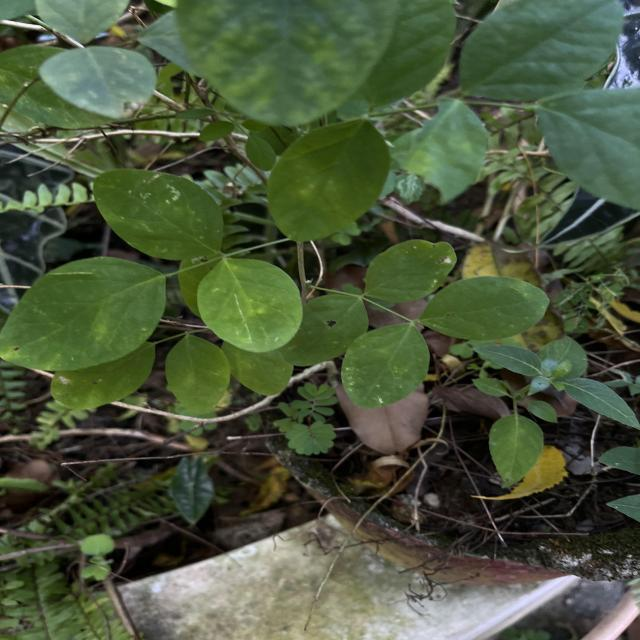Clitoria ternatea: (0, 254, 168, 372), (91, 168, 225, 262), (196, 257, 304, 354), (418, 275, 551, 341), (340, 322, 432, 410), (363, 238, 458, 304)
